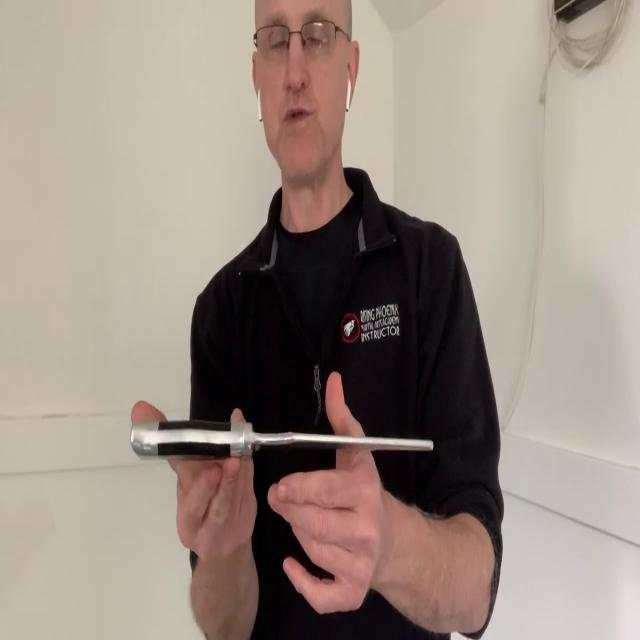Knife_Handle: (131, 372, 434, 615)
